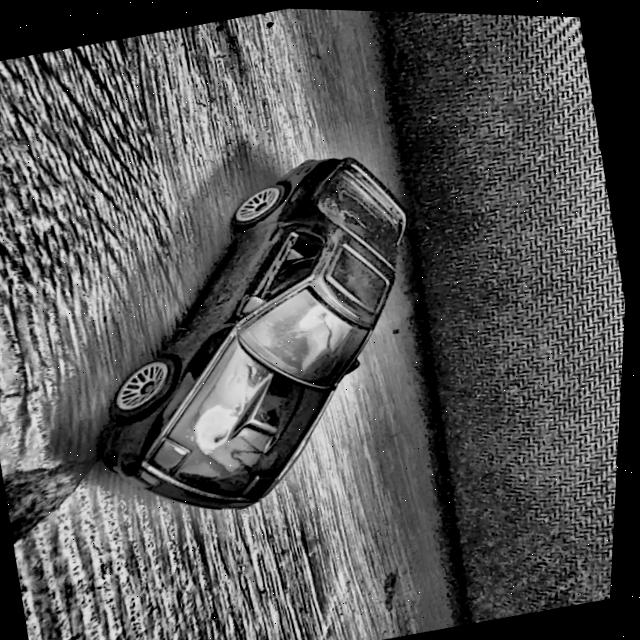car: (46, 132, 466, 539)
